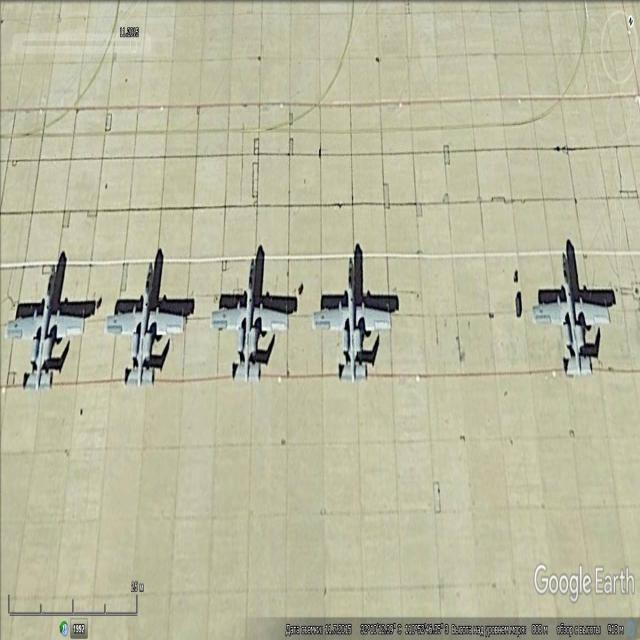MIL_Plane: (4, 264, 85, 392), (104, 262, 184, 388), (210, 258, 289, 384), (312, 258, 392, 382), (532, 252, 610, 376)
